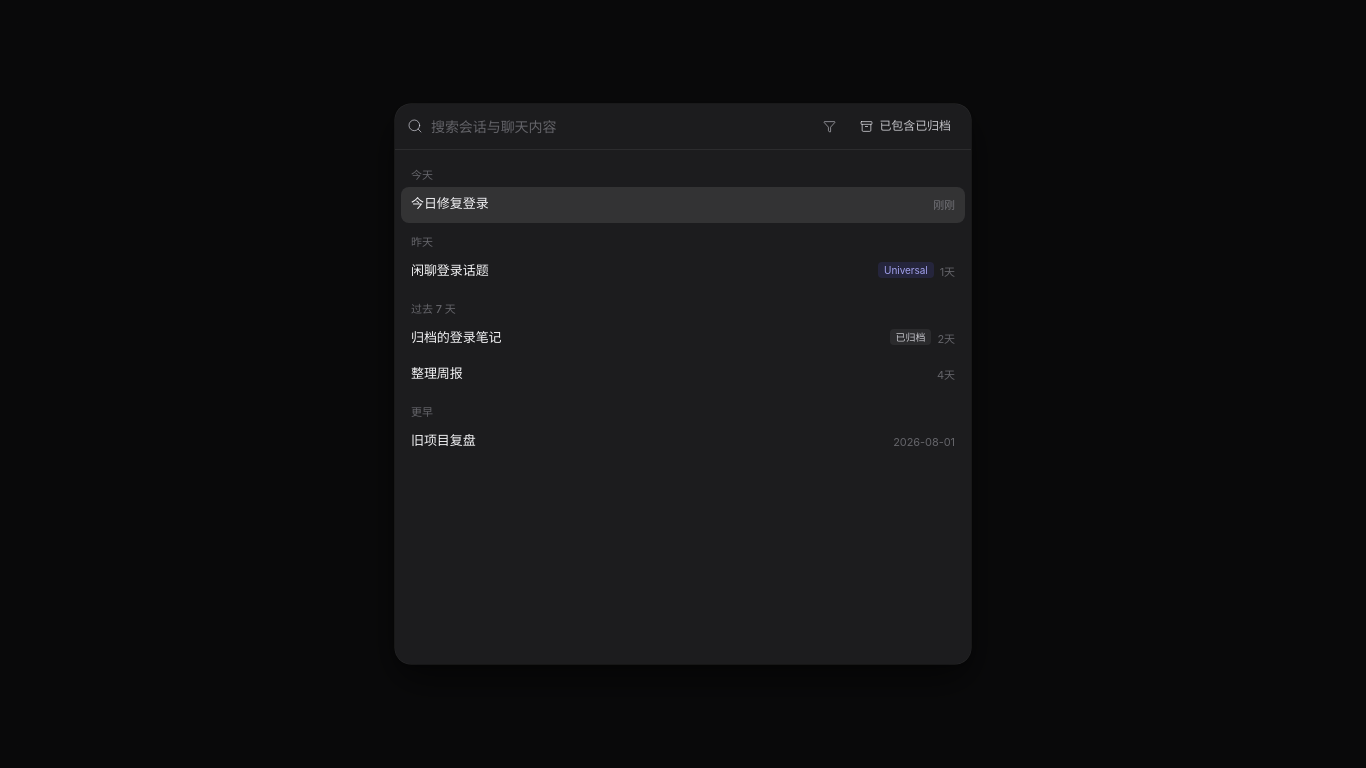
Test case: filter funnel popover › renders the funnel button and opens the popover with filter options
# Clicking funnel opens popover
Click the button named "筛选" at (830, 126), box top-left (815, 116), bottom-right (844, 137)
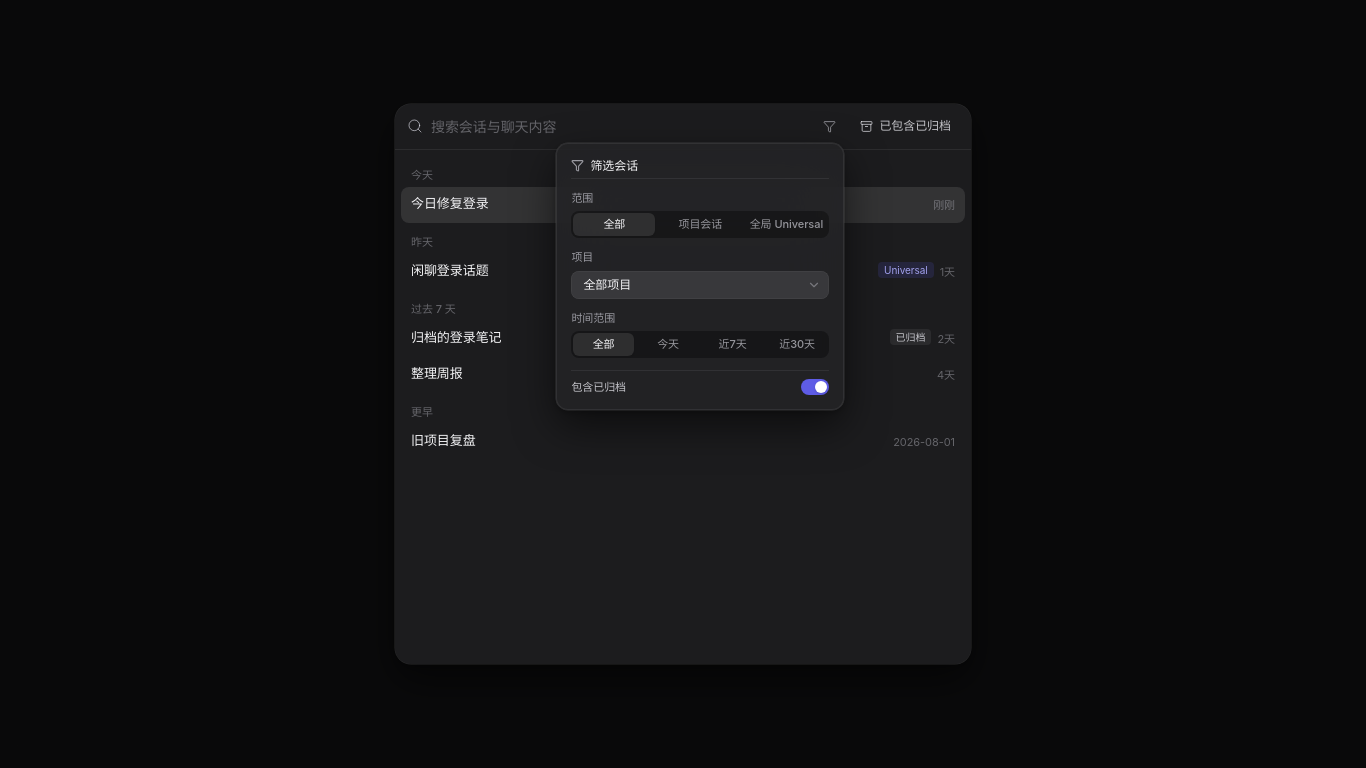
Check: the text "筛选会话" is shown, box top-left (590, 158), bottom-right (638, 174)
Check: the text "范围" is shown, box top-left (571, 191), bottom-right (593, 205)
Check: the text "项目" is shown, box top-left (571, 250), bottom-right (593, 264)
